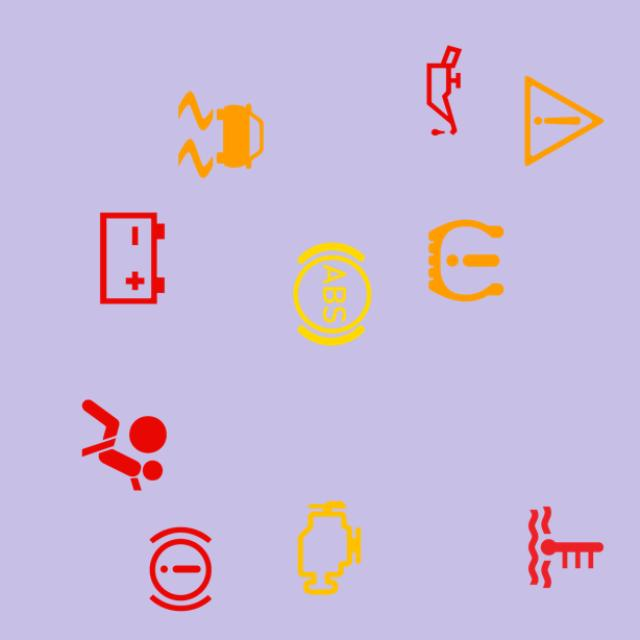Anti Lock Braking System: (276, 238, 389, 350)
Braking System Issue: (124, 513, 237, 625)
Charging System Issue: (76, 202, 189, 315)
Check Engine: (273, 492, 386, 605)
Electronic Stability Problem -ESP-: (165, 78, 277, 191)
Engine Overheating Warning Light: (510, 491, 622, 603)
Low Engine Oil Warning Light: (388, 34, 500, 147)
Low Tire Pressure Warning Light: (410, 204, 522, 317)
Master warning light: (508, 65, 620, 177)
SRS-Airbag: (68, 389, 180, 501)
